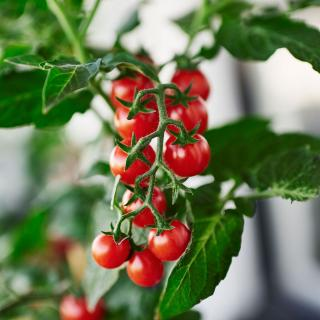Tomat: (115, 85, 210, 143), (110, 138, 158, 189), (164, 127, 212, 178), (114, 90, 161, 142), (147, 218, 192, 263), (122, 186, 168, 230), (164, 94, 210, 138), (110, 73, 156, 111), (92, 231, 132, 270), (127, 248, 166, 288), (171, 68, 211, 102), (59, 294, 107, 320)
